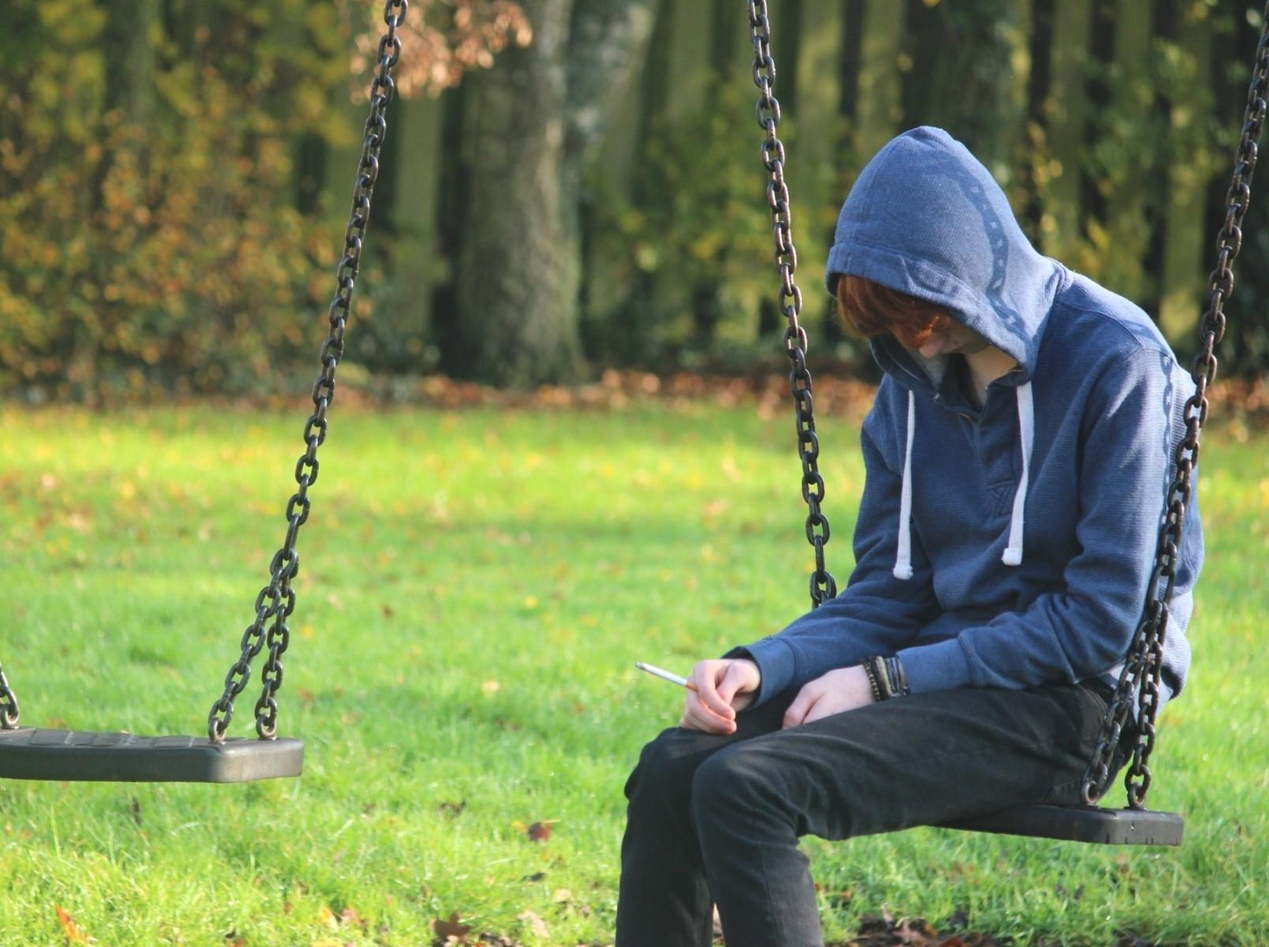cigarette: (633, 659, 700, 692)
